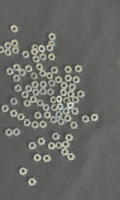nut: (28, 178, 37, 187), (65, 134, 74, 142), (13, 128, 21, 137), (82, 115, 90, 124), (72, 76, 81, 84), (19, 168, 27, 176), (34, 154, 42, 162), (61, 149, 69, 157), (55, 142, 63, 150), (52, 133, 60, 141), (38, 138, 46, 146), (5, 129, 13, 137), (91, 114, 99, 122), (1, 105, 9, 113), (23, 119, 31, 127), (31, 121, 39, 129), (50, 116, 58, 124), (57, 118, 65, 126), (64, 115, 72, 123), (34, 112, 42, 120), (55, 111, 63, 119), (42, 104, 50, 112), (21, 91, 29, 99), (39, 88, 47, 96), (25, 85, 33, 93), (14, 85, 22, 93), (31, 81, 39, 89), (55, 76, 63, 84), (75, 65, 83, 73), (30, 72, 38, 80), (18, 69, 26, 77), (13, 64, 21, 72), (25, 65, 33, 73), (48, 33, 56, 41), (38, 45, 46, 53), (43, 156, 52, 163), (28, 143, 37, 150), (64, 66, 73, 73), (12, 75, 21, 82), (67, 154, 75, 161), (63, 141, 70, 149), (48, 143, 56, 150), (70, 122, 78, 129), (10, 110, 18, 117), (17, 114, 25, 121), (40, 121, 47, 129), (10, 98, 18, 105), (71, 108, 79, 115), (24, 100, 31, 108), (30, 96, 37, 104), (67, 102, 74, 110), (57, 103, 64, 111), (51, 104, 58, 112), (36, 100, 44, 107), (50, 96, 57, 104), (63, 97, 71, 104), (72, 97, 80, 104), (77, 91, 85, 98), (67, 91, 75, 98), (60, 89, 68, 96), (47, 88, 54, 96), (32, 89, 40, 96), (69, 84, 77, 91), (39, 81, 47, 88), (48, 80, 56, 87), (65, 75, 73, 82), (51, 67, 59, 74), (46, 72, 53, 80), (39, 70, 47, 77), (7, 68, 14, 76), (36, 64, 44, 71), (32, 56, 40, 63), (40, 53, 47, 61), (48, 54, 56, 61), (32, 44, 39, 52), (22, 51, 30, 58), (12, 47, 20, 54), (4, 49, 12, 56), (11, 25, 18, 33), (4, 42, 12, 49), (11, 40, 19, 47), (44, 112, 51, 119), (63, 108, 70, 115), (56, 96, 63, 103), (61, 82, 68, 89), (47, 45, 54, 52), (31, 49, 39, 55), (49, 41, 56, 47), (0, 46, 5, 54)
